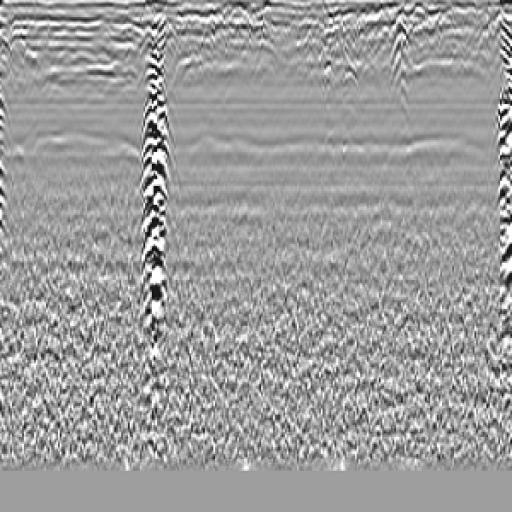metalic: (128, 27, 189, 375), (472, 21, 512, 359)
